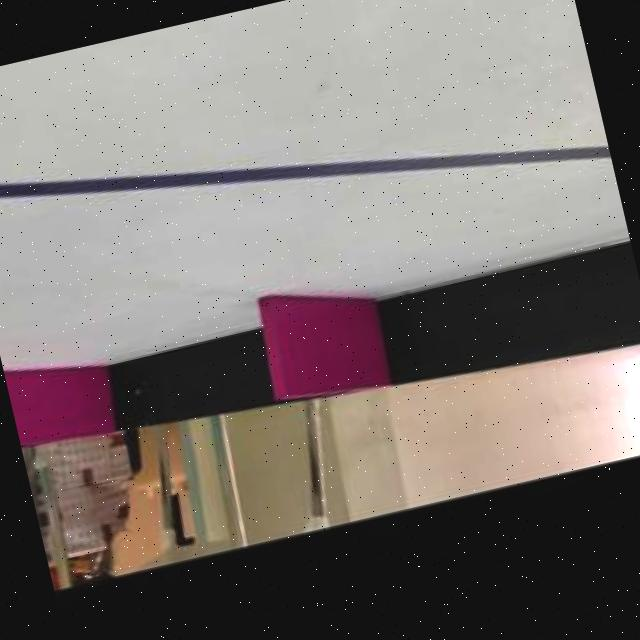xparking: (258, 274, 388, 406), (5, 354, 111, 451)
